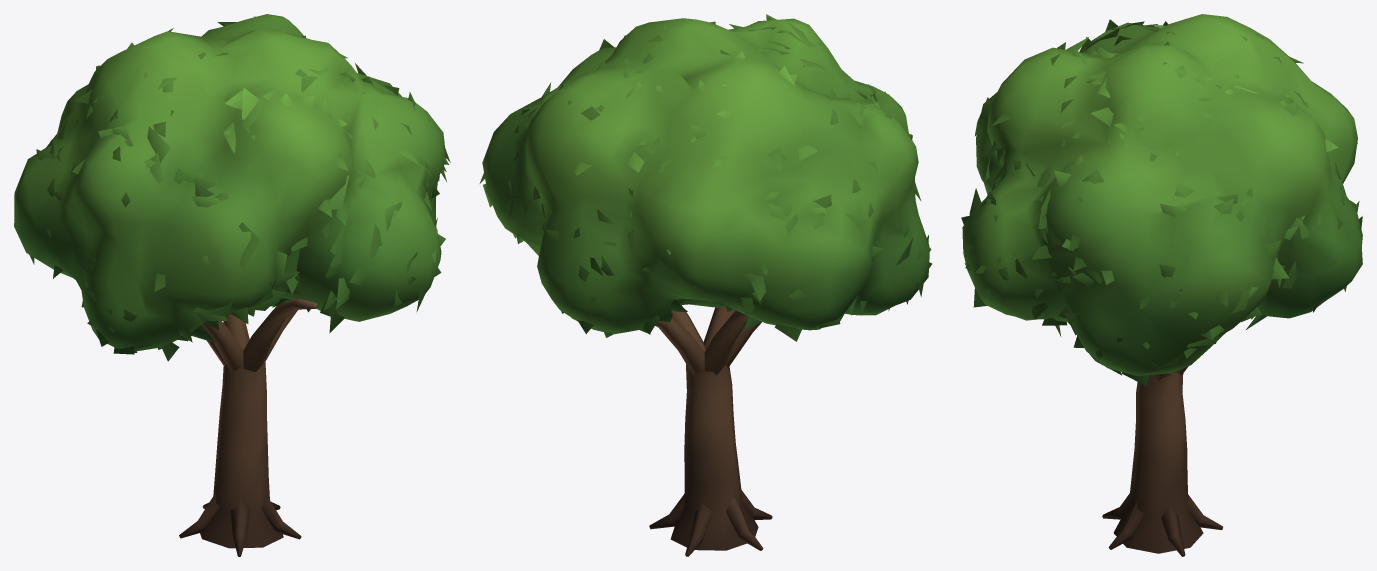
The model's file is prop.tree_oak.glb.
3 views of the same model, side by side, from view 1: azimuth 30°, elevation 25°; view 2: azimuth 150°, elevation 25°; view 3: azimuth 270°, elevation 25° (orthographic). The views are drawn at different scales.
Visible parts, largest first — view 1: tree_oak; view 2: tree_oak; view 3: tree_oak.
Part boxes in pixels (x1,y1,x2,y2): tree_oak: [14, 14, 450, 556]; tree_oak: [479, 14, 932, 556]; tree_oak: [961, 14, 1362, 556].
Size of the model in its own units: 6.52 by 8.14 by 5.94.
